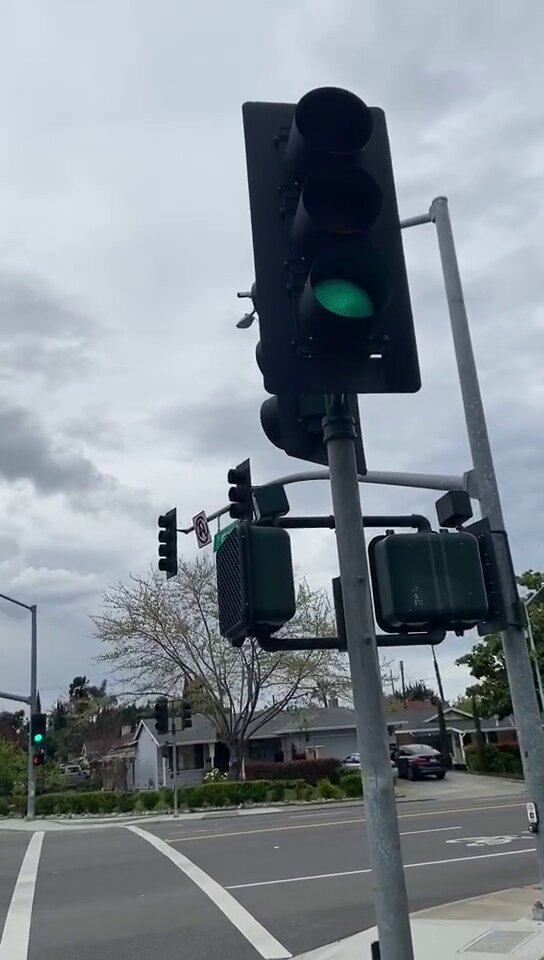green_light: (267, 103, 383, 368), (33, 716, 45, 741)
